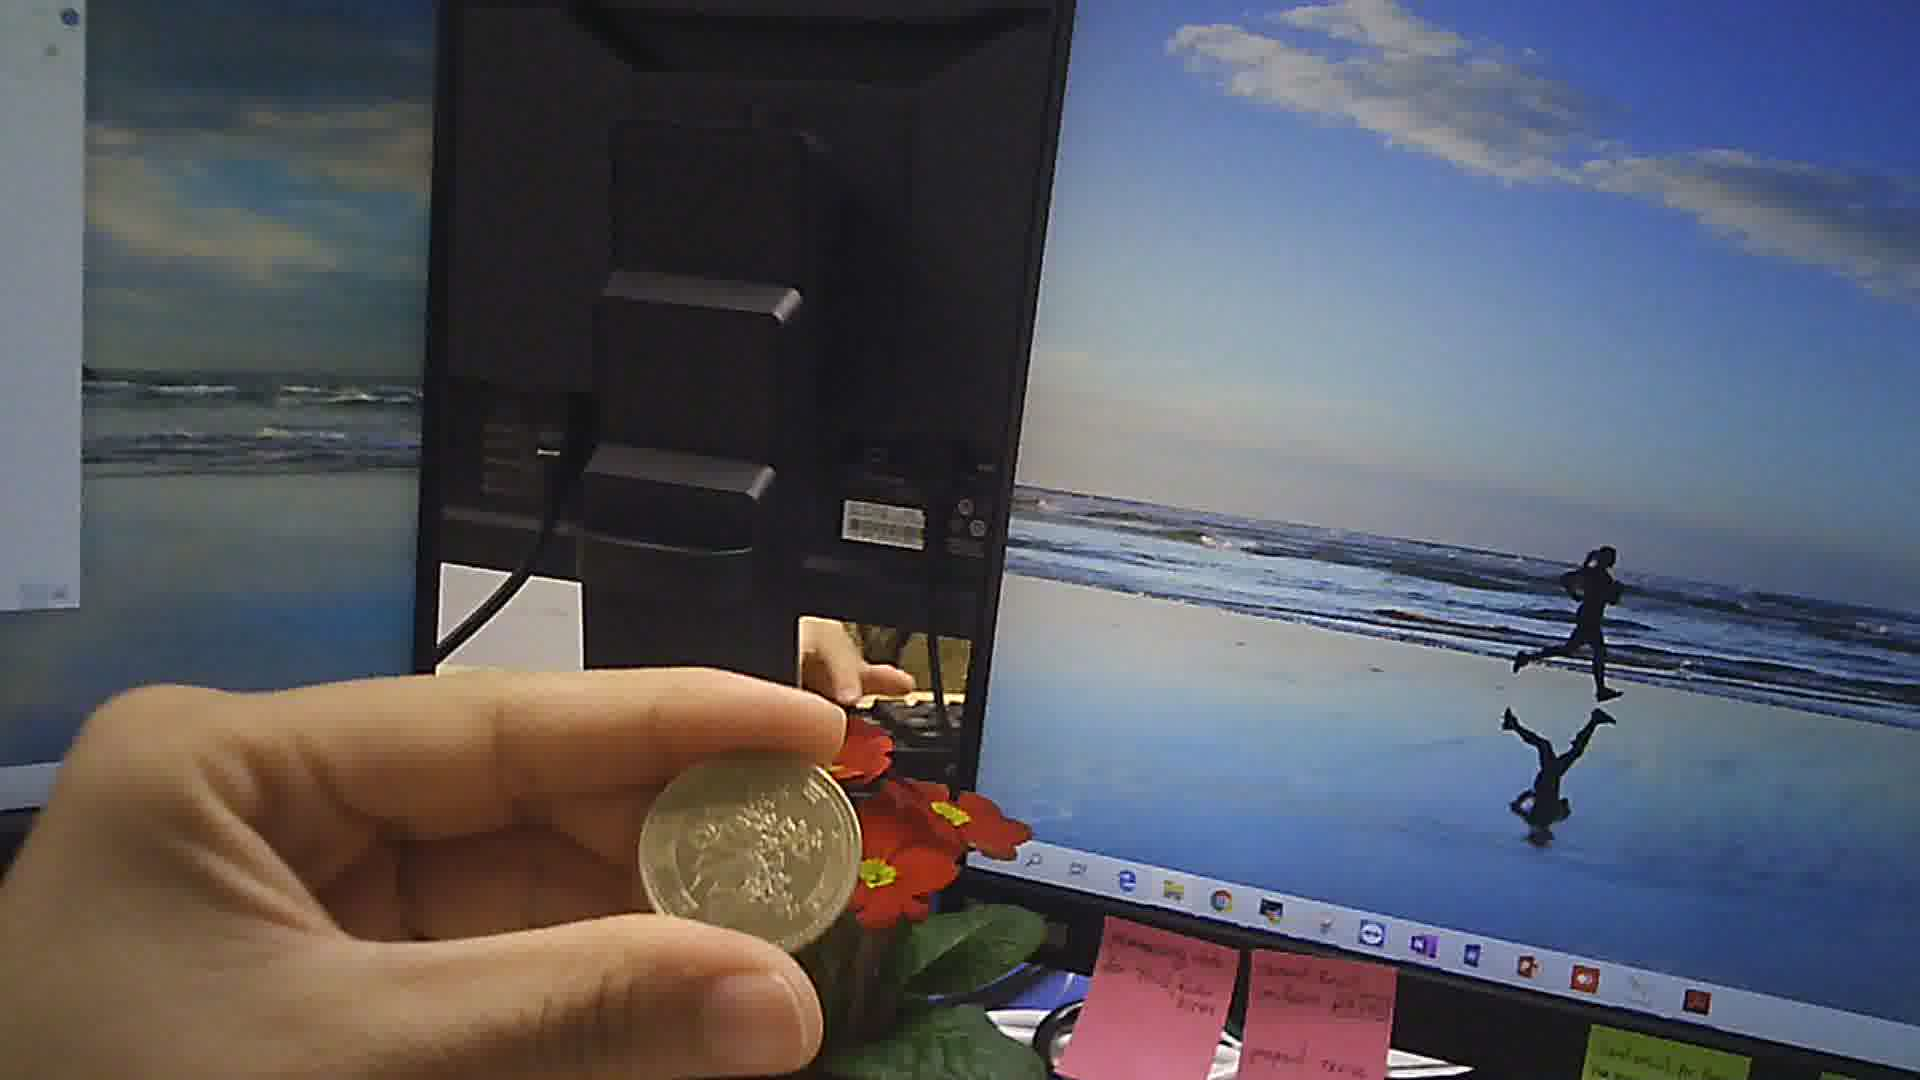500 Yen: (628, 742, 872, 963)
